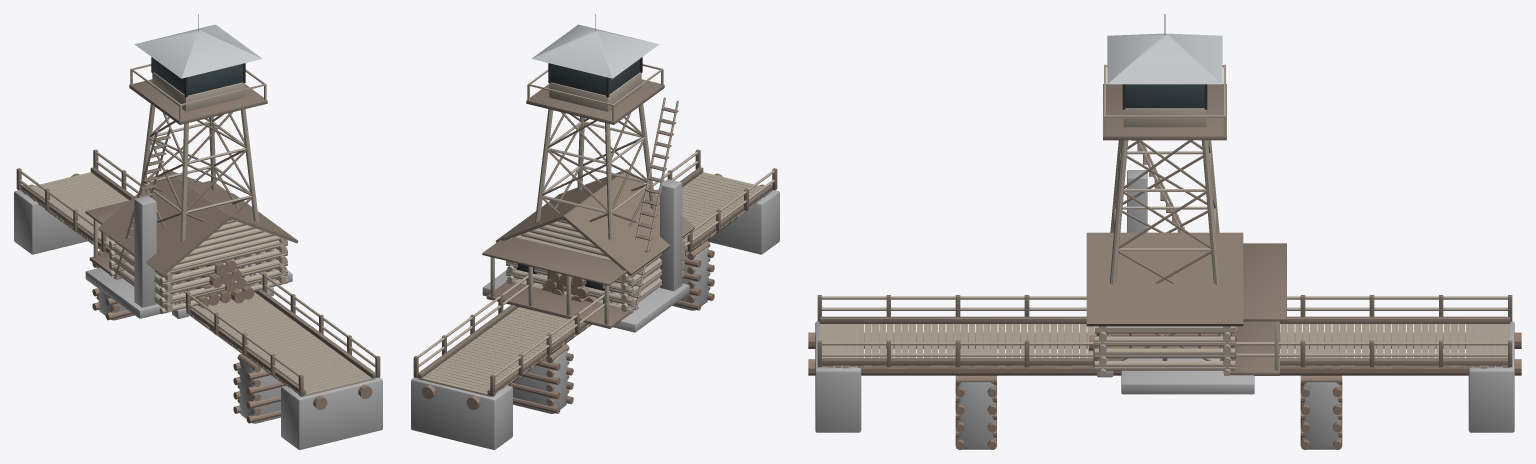
File: ForestLandmarks.fbx
3 views of the same model, side by side, from view 1: azimuth 30°, elevation 25°; view 2: azimuth 150°, elevation 25°; view 3: azimuth 270°, elevation 25° (orthographic). The views are drawn at different scales.
Parts seen in each view (by area): view 1: WoodBridge, LogCabin, FireLookout, LogPile; view 2: WoodBridge, LogCabin, FireLookout, LogPile; view 3: WoodBridge, LogCabin, FireLookout, LogPile.
Part boxes in pixels (x1,y1,x2,y2): WoodBridge: (14,149,382,449); LogCabin: (85,169,298,318); FireLookout: (113,14,273,318); LogPile: (171,259,254,308); WoodBridge: (411,149,779,449); LogCabin: (482,169,695,332); FireLookout: (526,14,678,310); LogPile: (541,272,622,302); WoodBridge: (808,295,1521,449); LogCabin: (1086,170,1286,394); FireLookout: (1097,14,1226,377); LogPile: (1089,326,1237,353).
Size of the model in its own units: 9.4 by 20.1 by 31.
